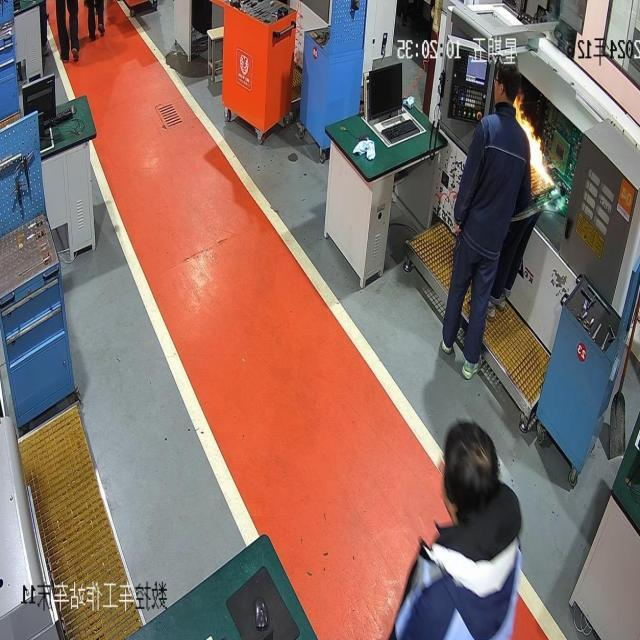smoke: (513, 92, 554, 194)
